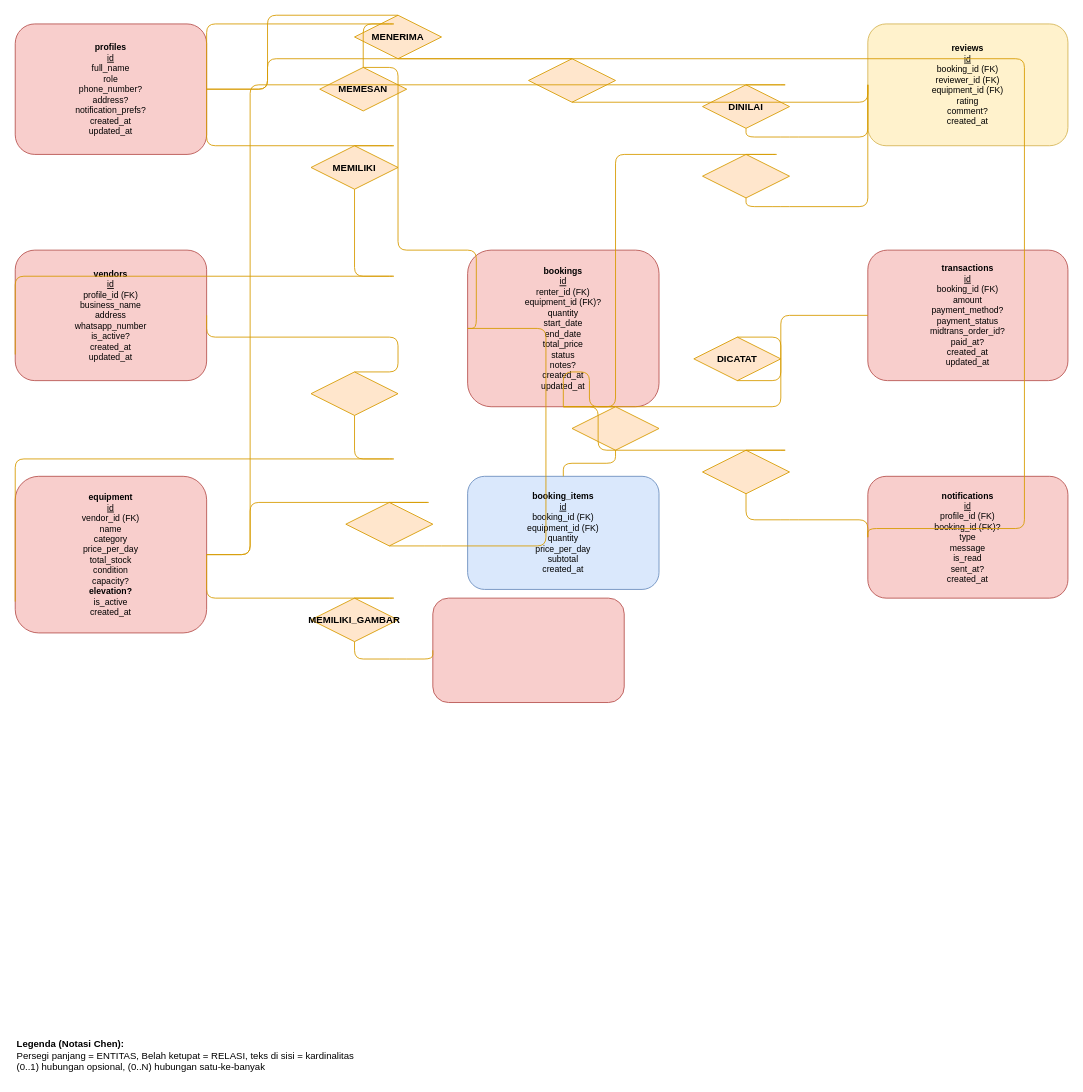
The diagram is 1083 pixels wide and 1092 high, and some of its shapes have lost their labels. The centre of each missing label's shape, as x and y in pixels:
"DIDASARI" belongs at (746,176).
"DIPESAN_DALAM" belongs at (389,524).
"equipment_images id equipment_id (FK) url is_primary sort_order created_at" belongs at (528,650).
"MEMILIKI_ITEM" belongs at (615,428).
"MENULIS" belongs at (572,80).
"MENYEDIAKAN" belongs at (354,393).
"TERKAIT" belongs at (746,471).
